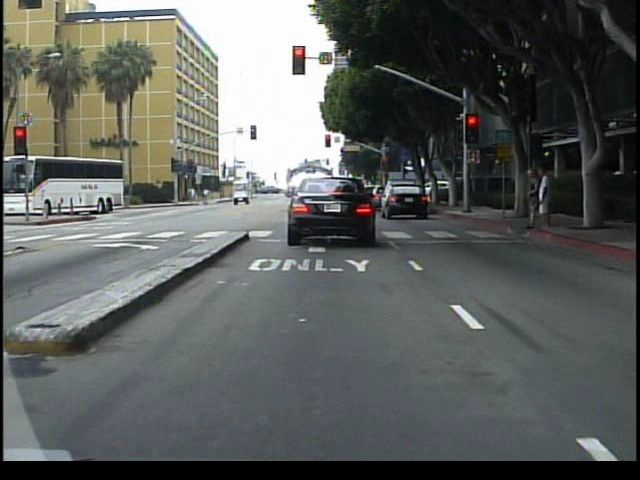person: (532, 166, 555, 235), (522, 163, 539, 232)
